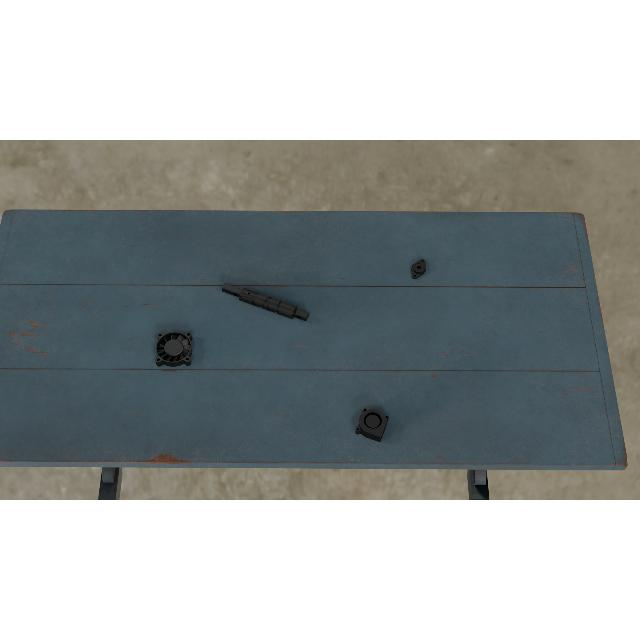Pieza1: (220, 278, 310, 326)
Pieza2: (408, 256, 430, 282)
Pieza3: (354, 405, 390, 443)
Pieza4: (155, 331, 193, 367)
